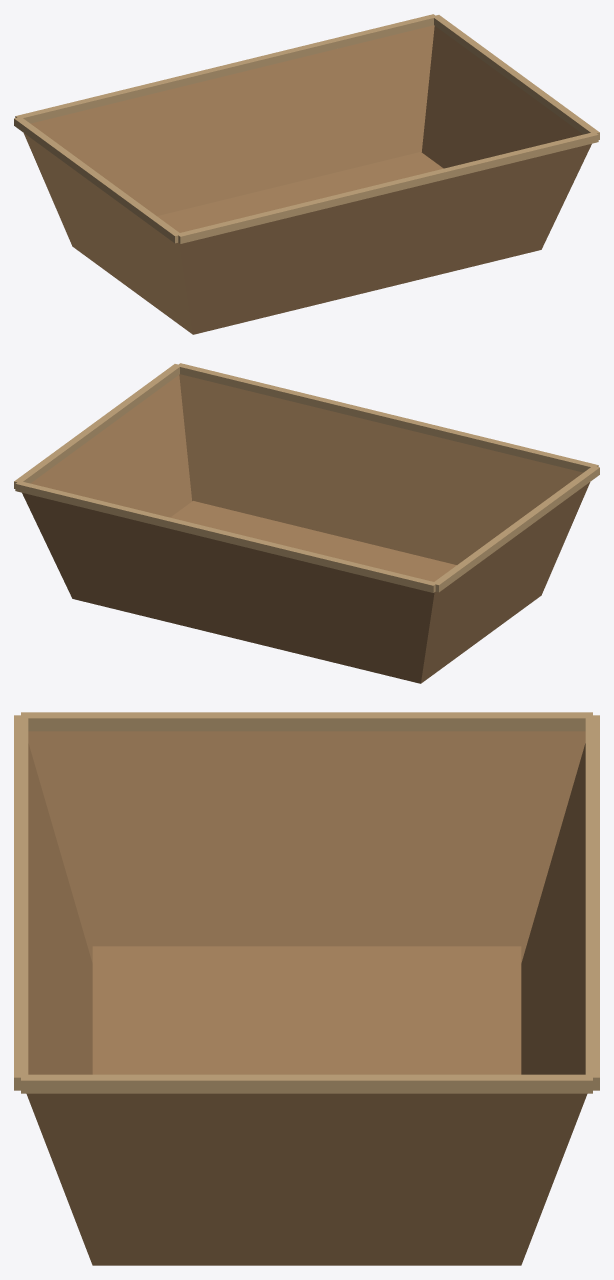
Rendered from lwf_litter_chips_tray_v1.glb.
3 views of the same model, one above another, from view 1: azimuth 30°, elevation 25°; view 2: azimuth 150°, elevation 25°; view 3: azimuth 270°, elevation 25° (orthographic). The views are drawn at different scales.
Parts seen in each view (by area): view 1: LWF_Litter_Chips_Tray_V1; view 2: LWF_Litter_Chips_Tray_V1; view 3: LWF_Litter_Chips_Tray_V1.
Boxes of the visible parts, box(x1,y1,x2,y2) form: LWF_Litter_Chips_Tray_V1: box(14, 14, 599, 334); LWF_Litter_Chips_Tray_V1: box(14, 363, 599, 683); LWF_Litter_Chips_Tray_V1: box(14, 712, 599, 1265).
Bounding box in the file's own units: 0.183 × 0.0505 × 0.123.
Materials: 1 (1 with a texture image).
